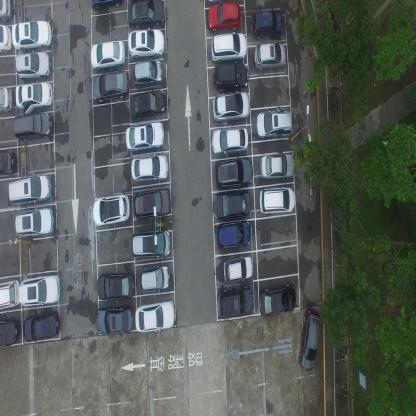car: (134, 296, 176, 334), (18, 272, 61, 308), (298, 305, 320, 371), (92, 191, 130, 227), (260, 281, 296, 318), (8, 172, 52, 202), (214, 154, 250, 190), (91, 69, 128, 104), (12, 18, 51, 51), (213, 91, 250, 125), (217, 284, 254, 318), (96, 303, 135, 335), (13, 109, 52, 141), (126, 119, 166, 150), (132, 151, 170, 183), (133, 186, 171, 218), (132, 226, 170, 258), (15, 206, 54, 237), (90, 37, 126, 70), (128, 28, 165, 60), (97, 270, 134, 302), (23, 310, 60, 342), (216, 217, 251, 250), (256, 109, 292, 141), (211, 32, 247, 64), (257, 184, 294, 215), (207, 1, 241, 34), (131, 88, 167, 119), (212, 60, 249, 90), (15, 82, 53, 111), (211, 192, 251, 219), (211, 126, 248, 154), (13, 53, 51, 80), (127, 0, 166, 26), (258, 154, 293, 182), (133, 58, 163, 89), (252, 9, 284, 38), (223, 254, 253, 284), (140, 263, 170, 293), (254, 41, 286, 69), (0, 315, 19, 349), (0, 276, 19, 308), (0, 147, 16, 178), (91, 0, 125, 13), (0, 22, 13, 55), (0, 84, 12, 115), (0, 0, 12, 23)
